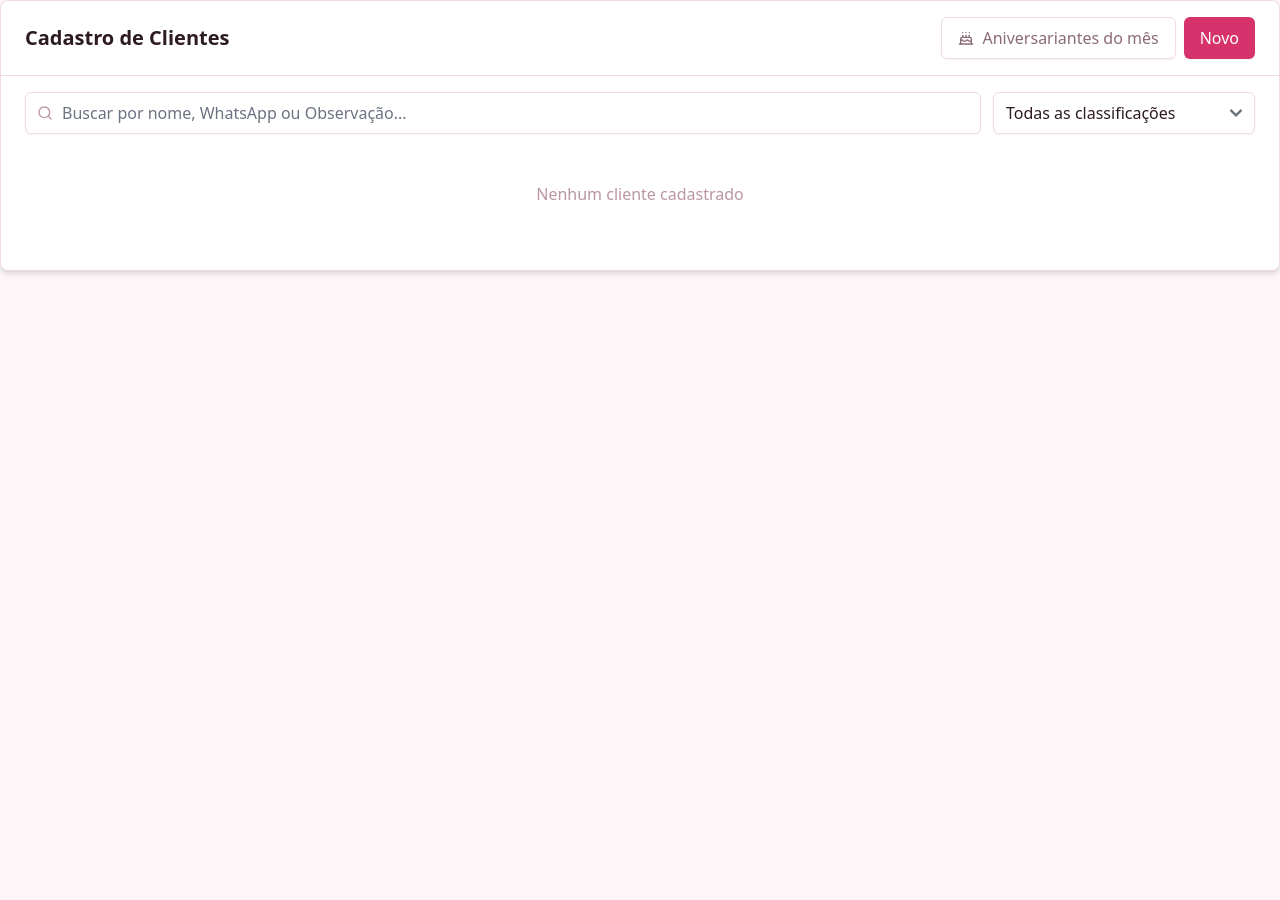
Test: PeoplePage › Create Client Modal › should open modal when clicking "Novo"
The width and height of the screenshot is (1280, 900).
Click the button "Novo" at coordinates (1219, 38), box [1184,17,1255,59]
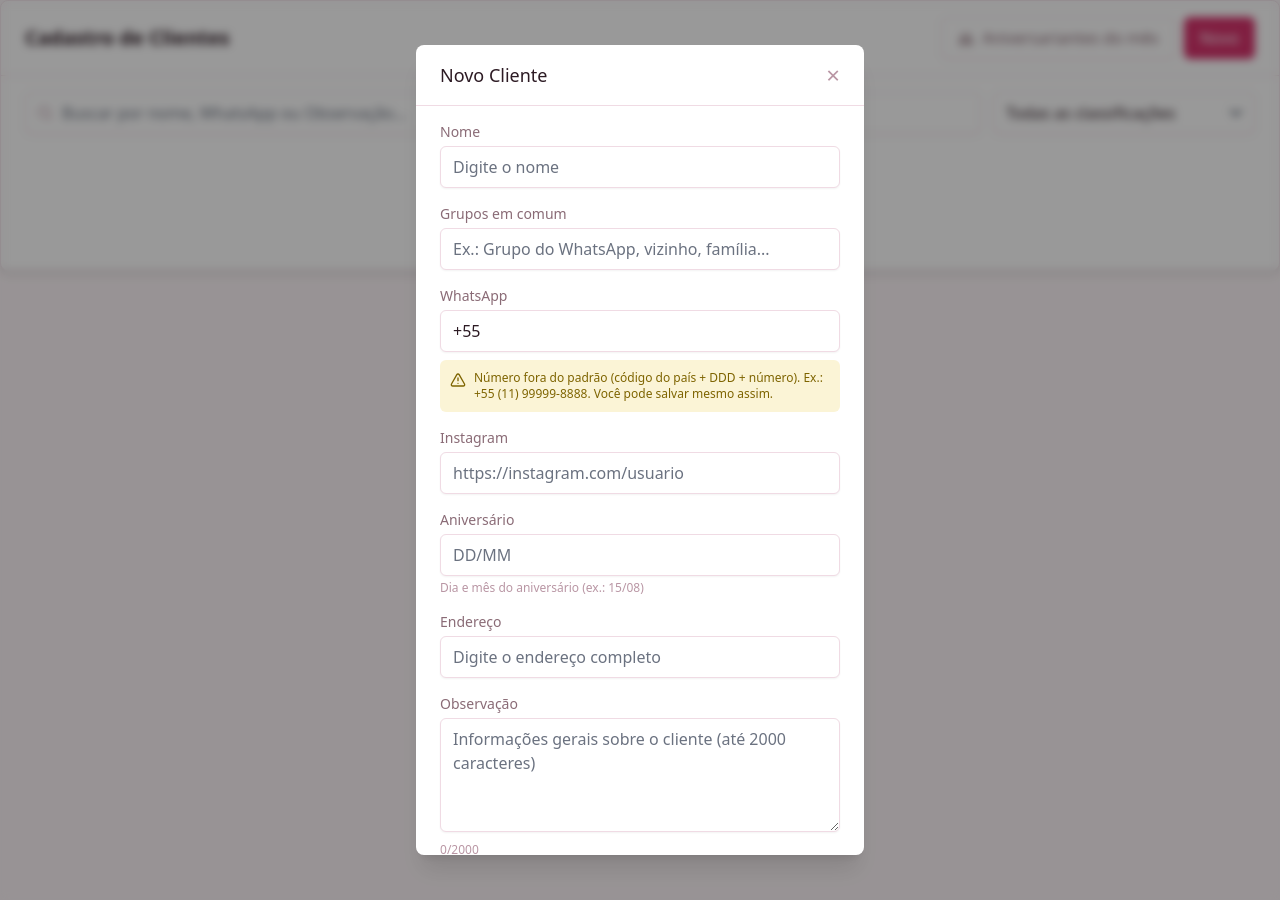
expect the heading "Novo Cliente" is shown: met, box [440,61,548,89]
